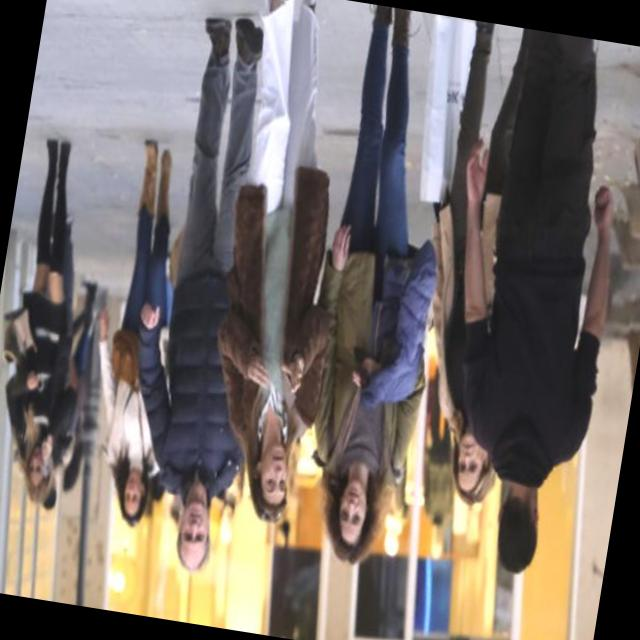person: (59, 0, 332, 623), (368, 19, 640, 640), (239, 0, 516, 598), (145, 0, 400, 545), (356, 14, 576, 540), (42, 110, 238, 556), (0, 135, 127, 536)
